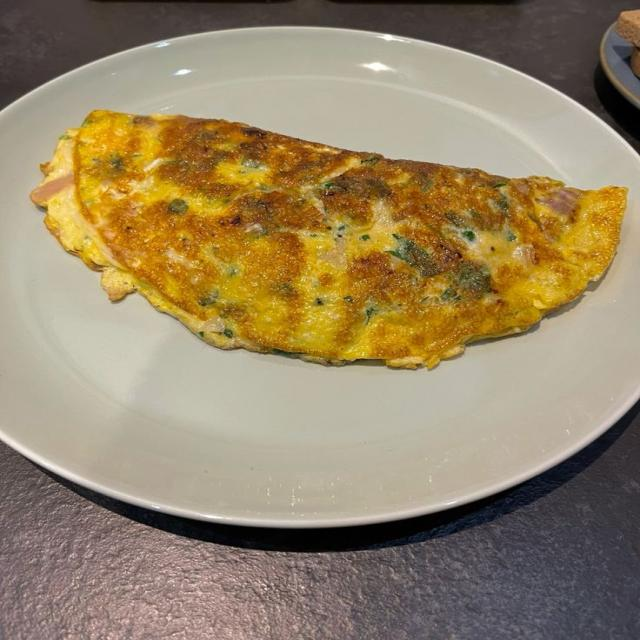omelette: (33, 111, 626, 367)
